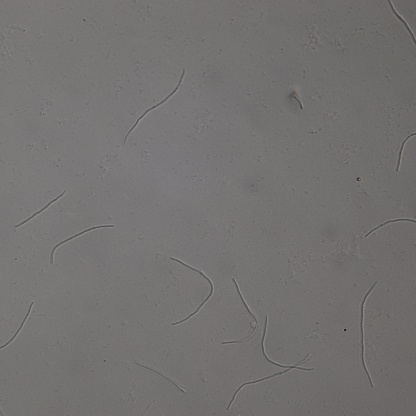Sensitive: (228, 315, 314, 410), (124, 68, 185, 144), (169, 256, 214, 328), (49, 223, 114, 265), (221, 277, 259, 345), (357, 281, 377, 389), (15, 190, 66, 228), (1, 301, 33, 351), (134, 362, 185, 392), (388, 1, 415, 46), (366, 216, 416, 236), (397, 131, 416, 170)
